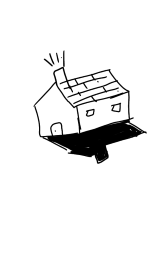door: (47, 117, 66, 140)
open_window: (110, 101, 123, 113), (83, 108, 97, 118)
roof: (31, 67, 131, 109)
shadow: (39, 120, 149, 164)
smoking_chimney: (40, 46, 75, 85)
wall: (72, 90, 137, 134)
